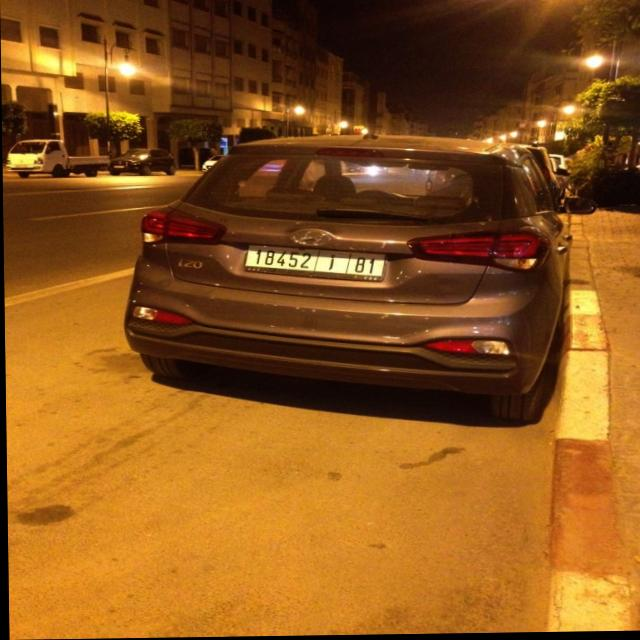License-Plate: (244, 246, 385, 278)
